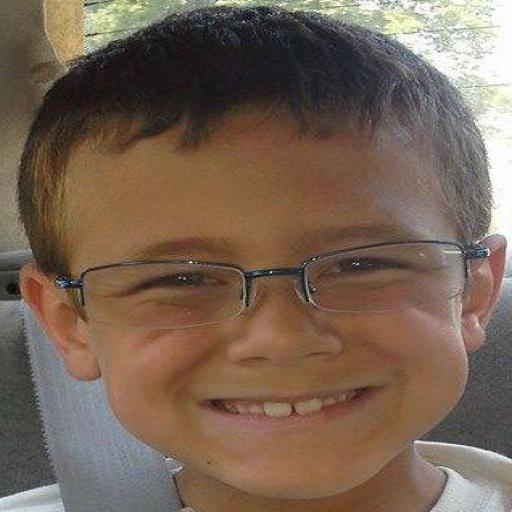Autism: (22, 10, 510, 512)
